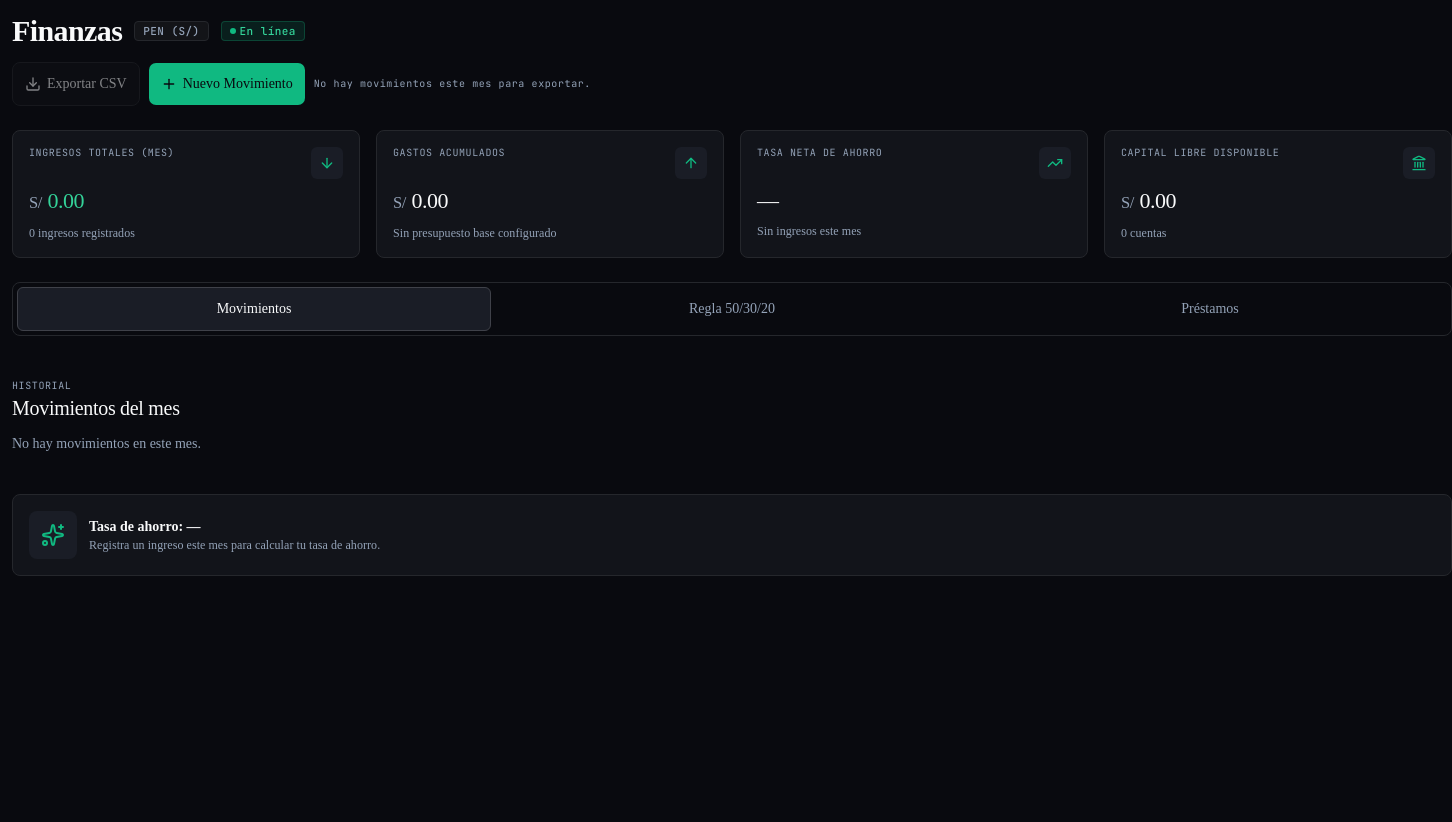
FinancesScreen — KPIs from real local data › explains when there is nothing to execute without a distribution
The width and height of the screenshot is (1452, 822).
Click the tab "Regla 50/30/20".
click(732, 309)  # box [495, 287, 969, 331]
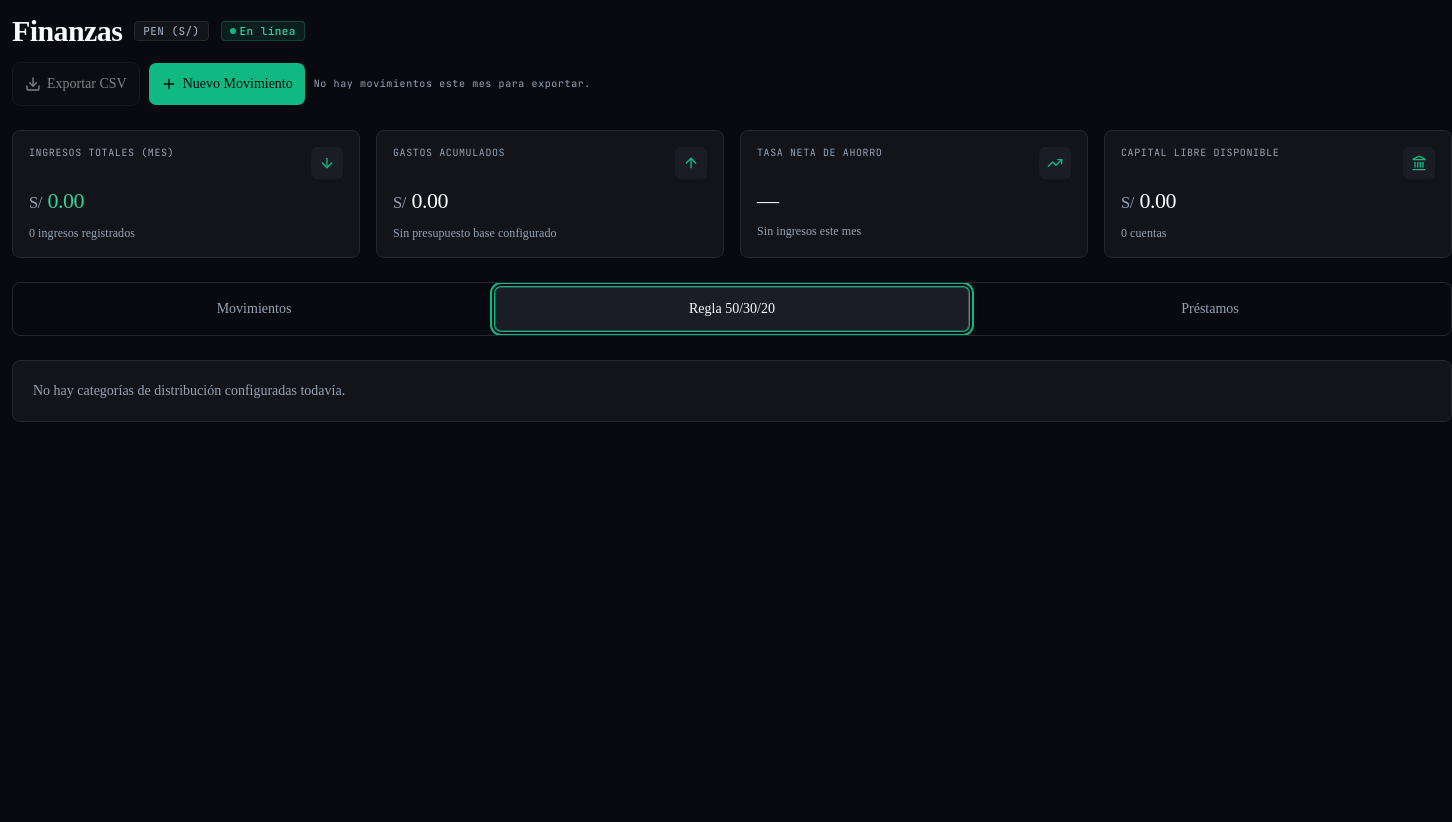
Result: the text "No hay categorías de distribución configuradas todavía." is shown at [33, 383, 345, 398]
